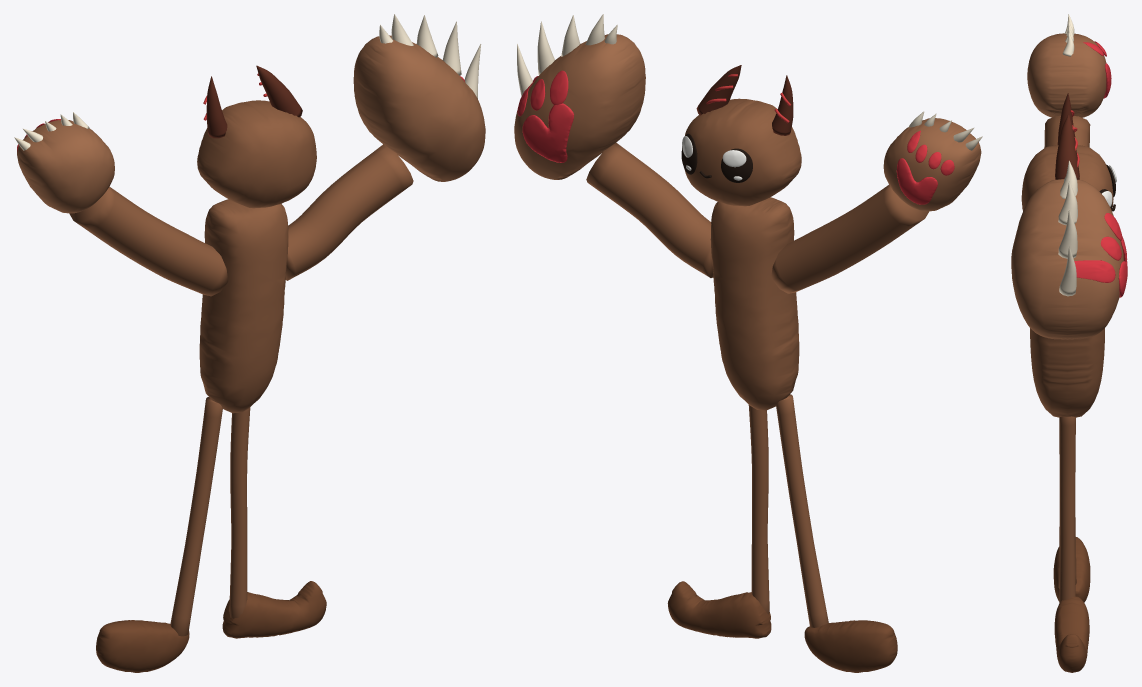
Rendered from character.glb.
3 views of the same model, side by side, from view 1: azimuth 30°, elevation 25°; view 2: azimuth 150°, elevation 25°; view 3: azimuth 270°, elevation 25° (orthographic). The views are drawn at different scales.
Visible parts, largest first — view 1: body, paw_screen_left, head, arm_screen_right, arm_screen_left, paw_screen_right, leg_screen_right, foot_screen_right, foot_screen_left, leg_screen_left, horn_screen_left, horn_screen_right; view 2: body, paw_screen_left, head, arm_screen_right, arm_screen_left, paw_screen_right, leg_screen_right, foot_screen_right, foot_screen_left, leg_screen_left, heart_screen_left, heart_screen_right (+2 smaller); view 3: paw_screen_left, paw_screen_right, body, leg_screen_left, head, foot_screen_left, foot_screen_right, horn_screen_left, arm_screen_right, digit_pad_left_0, claw_left_1, claw_left_0 (+7 smaller).
Part boxes in pixels (box(x1,y1,x2,y2)): body: box(199, 199, 288, 413); paw_screen_left: box(353, 35, 485, 181); head: box(197, 100, 316, 208); arm_screen_right: box(69, 186, 227, 296); arm_screen_left: box(285, 144, 413, 280); paw_screen_right: box(17, 120, 114, 213); leg_screen_right: box(170, 397, 222, 636); foot_screen_right: box(96, 620, 189, 672); foot_screen_left: box(222, 581, 326, 638); leg_screen_left: box(229, 407, 250, 618); horn_screen_left: box(256, 65, 302, 117); horn_screen_right: box(206, 76, 227, 138); body: box(710, 197, 799, 410); paw_screen_left: box(514, 34, 645, 179); head: box(684, 98, 801, 206); arm_screen_right: box(771, 185, 929, 293); arm_screen_left: box(586, 142, 713, 277); paw_screen_right: box(883, 118, 981, 211); leg_screen_right: box(776, 394, 828, 627); foot_screen_right: box(804, 620, 897, 672); foot_screen_left: box(667, 581, 771, 638); leg_screen_left: box(748, 405, 769, 614); heart_screen_left: box(522, 103, 573, 162); heart_screen_right: box(896, 158, 937, 204); paw_screen_left: box(1011, 179, 1123, 339); paw_screen_right: box(1027, 33, 1106, 117); body: box(1030, 328, 1104, 417); leg_screen_left: box(1059, 416, 1075, 603); head: box(1021, 145, 1113, 210); foot_screen_left: box(1054, 596, 1089, 672); foot_screen_right: box(1053, 537, 1090, 602); horn_screen_left: box(1055, 114, 1079, 179); arm_screen_right: box(1044, 115, 1090, 147); digit_pad_left_0: box(1074, 260, 1115, 282); claw_left_1: box(1058, 209, 1077, 258); claw_left_0: box(1059, 247, 1076, 296).
Size of the model in its own units: 0.082 by 0.1 by 0.0191.
